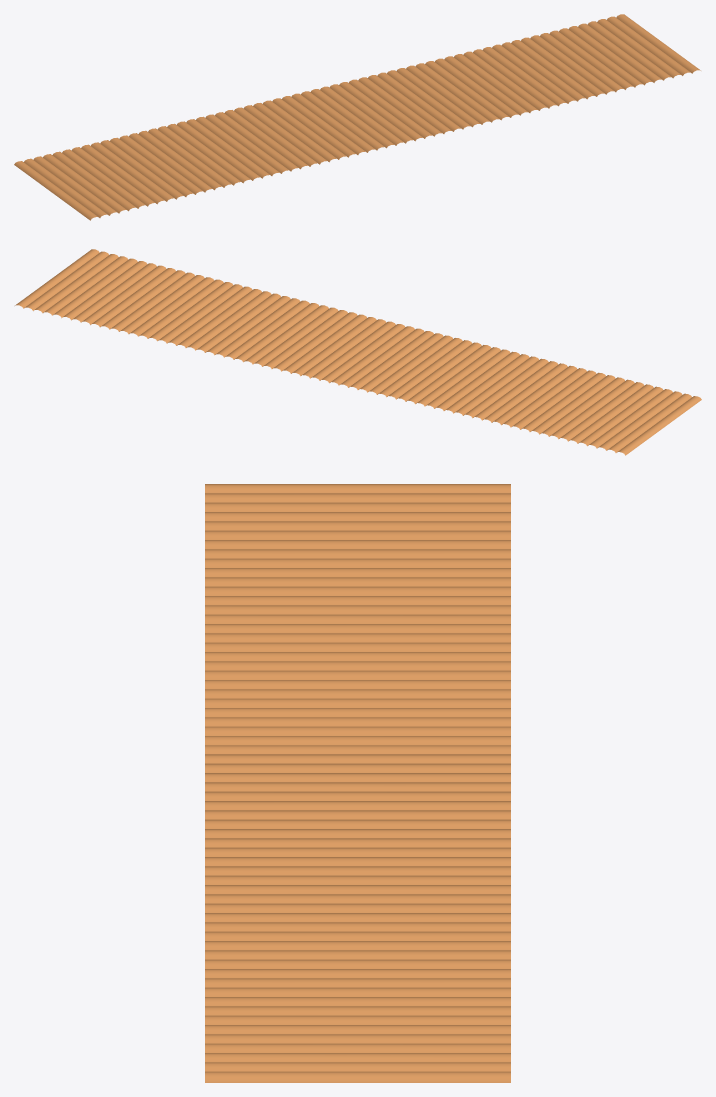
Rendered from doorway_floor.glb.
The picture shows the model from 3 angles, top to bottom: view 1: azimuth 30°, elevation 25°; view 2: azimuth 150°, elevation 25°; view 3: azimuth 270°, elevation 25°; orthographic projection. The views are drawn at different scales.
Parts seen in each view (by area): view 1: Circle.004; view 2: Circle.004; view 3: Circle.004.
Boxes of the visible parts, x1=… form: Circle.004: x1=14, y1=14, x2=700, y2=220; Circle.004: x1=15, y1=249, x2=701, y2=455; Circle.004: x1=205, y1=484, x2=510, y2=1082.
Size of the model in its own units: 18.72 by 0.0706 by 4.05.
